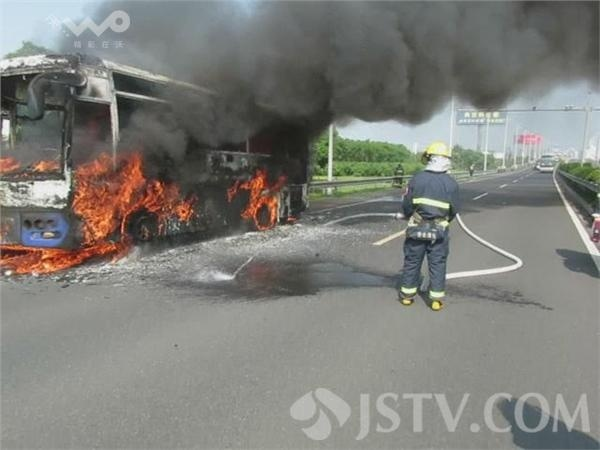fire: (0, 141, 197, 273), (230, 167, 291, 231)
